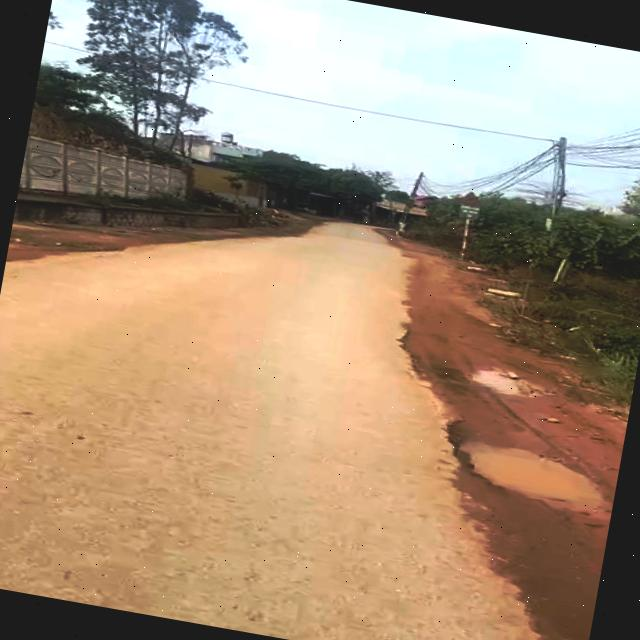pothole: (437, 420, 622, 528)
